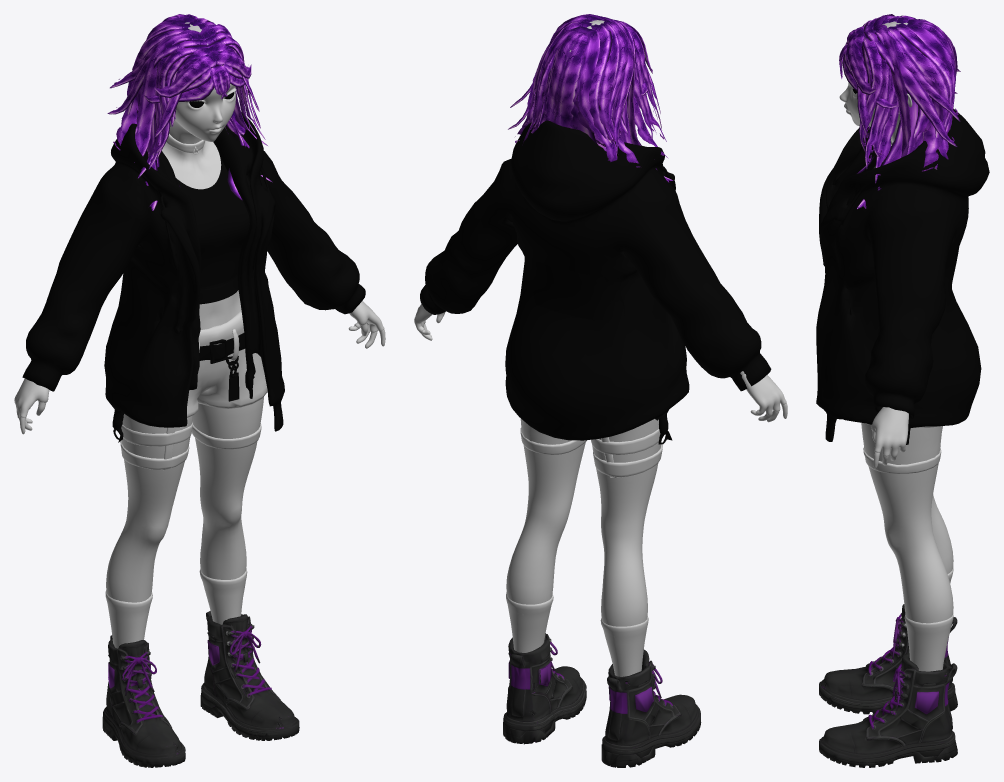
The model's file is expression_eyes.fbx.
The picture shows the model from 3 angles, left to right: view 1: azimuth 30°, elevation 25°; view 2: azimuth 150°, elevation 25°; view 3: azimuth 270°, elevation 25°; orthographic projection.
Visible parts, largest first — view 1: Full_Body1.001; view 2: Full_Body1.001; view 3: Full_Body1.001.
Boxes of the visible parts, <box> form: Full_Body1.001: <box>14,14,385,767</box>; Full_Body1.001: <box>414,14,787,767</box>; Full_Body1.001: <box>816,14,989,767</box>.
Size of the model in its own units: 104 by 192 by 42.68.
